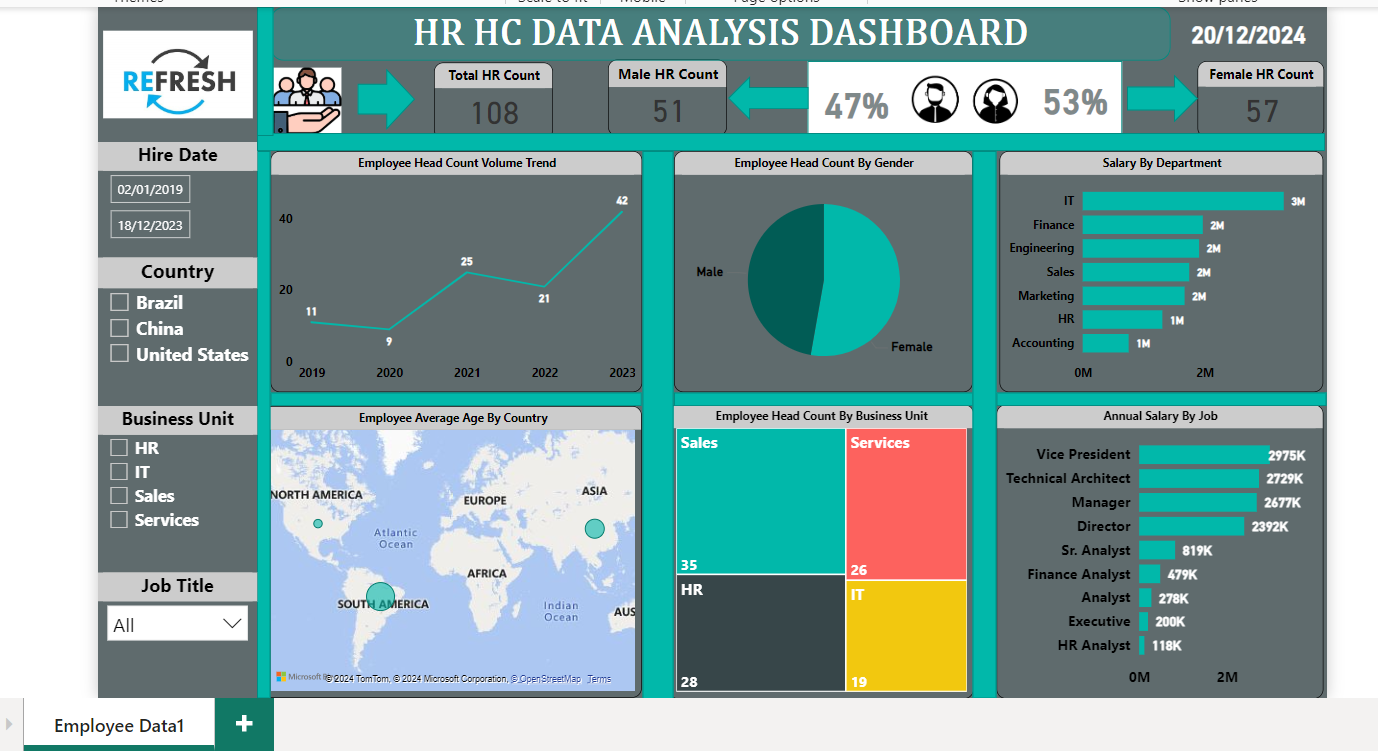

This screenshot's page, from the dashboard's own definition file:
{"tool":"powerbi","page":{"name":"Employee Data1","canvas":[1280,720],"ordinal":0},"visuals":[{"type":"card","title":"Total HR Count","fields":{"Values":["Employee Data.Total_Count"]},"box":[350,58,124,80],"z":0},{"type":"image","box":[166,58,104,82],"z":1000},{"type":"lineChart","title":"Employee Head Count Volume Trend","fields":{"Category":["Employee Data.Hire Date.Variation.Date Hierarchy.Year"],"Y":["CountNonNull(Employee Data.EEID)"]},"box":[179.7,150,387.6,251.6],"z":2000},{"type":"pieChart","title":"Employee Head Count By Gender","fields":{"Category":["Employee Data.Gender"],"Y":["CountNonNull(Employee Data.EEID)"]},"box":[600.2,150,311,251.6],"z":3000},{"type":"clusteredBarChart","title":"Salary By Department","fields":{"Category":["Employee Data.Department"],"Y":["Sum(Employee Data.Annual Salary)"]},"box":[939.4,150,337.6,251.6],"z":4000},{"type":"map","title":"Employee Average Age By Country","fields":{"Category":["Employee Data.Country"],"Size":["Avg(Employee Data.Age)"]},"box":[172.2,415.2,394.9,303.8],"z":5000},{"type":"treemap","title":"Employee Head Count By Business Unit","fields":{"Group":["Employee Data.Business Unit"],"Values":["CountNonNull(Employee Data.EEID)"]},"box":[593.9,414.2,318.8,306.3],"z":6000},{"type":"clusteredBarChart","title":"Annual Salary By Job","fields":{"Category":["Employee Data.Job Title"],"Y":["Sum(Employee Data.Annual Salary)"]},"box":[936.2,414.2,340.7,306.3],"z":7000},{"type":"shape","box":[165.7,150,14.1,570.5],"z":8000},{"type":"shape","box":[740,56,328,80],"z":9000},{"type":"image","box":[800,56,206,80],"z":10000},{"type":"card","title":"Male HR Count","fields":{"Values":["Employee Data.Total_Male_Count"]},"box":[532,54,124,80],"z":11000},{"type":"card","title":"Female HR Count","fields":{"Values":["Employee Data.Total_Female_Count"]},"box":[1146,56,132,80],"z":12000},{"type":"card","fields":{"Values":["Employee Data.Male%"]},"box":[740,64,102,70],"z":13000},{"type":"card","fields":{"Values":["Employee Data.Female%"]},"box":[968,56,100,78],"z":14000},{"type":"shape","box":[180,0,938,56],"z":15000},{"type":"slicer","title":"Business Unit","fields":{"Values":["Employee Data.Business Unit"]},"box":[0,415.2,166.1,158],"z":16000},{"type":"slicer","title":"Country","fields":{"Values":["Employee Data.Country"]},"box":[0,261.3,166.1,125.6],"z":17000},{"type":"slicer","title":"Job Title","fields":{"Values":["Employee Data.Job Title"]},"box":[0,589.2,165.7,95.3],"z":18000},{"type":"slicer","title":"Hire Date","fields":{"Values":["Employee Data.Hire Date"]},"box":[0,140,166,106],"z":19000},{"type":"card","fields":{"Values":["Min(Query1.Date)"]},"box":[1118,0,162,56],"z":20000},{"type":"image","box":[0,0,166,140],"z":21000},{"type":"shape","box":[599.5,401,311.9,14.2],"z":22000},{"type":"shape","box":[911.2,150,25,570.5],"z":23000},{"type":"shape","box":[567.1,149.9,32.4,571.1],"z":24000},{"type":"shape","box":[936.2,401.7,343.9,14.1],"z":25000},{"type":"shape","box":[180.3,401,386.8,14.2],"z":26000},{"type":"shape","box":[165.7,131.3,1112.8,18.8],"z":27000},{"type":"shape","box":[270,64,60,64],"z":28000},{"type":"shape","box":[1072,70,74,50],"z":29000},{"type":"shape","box":[656,72,84,46],"z":30000},{"type":"shape","box":[165.7,0,17.2,134.4],"z":31000}]}

Visuals, with their boxes on the page's 1280x720 design canvas (x1, y1, x2, y2). These are canvas units, not pixel positions in the 1378x751 screenshot, which may show the page scaled, cropped or inside an application window:
"Total HR Count" card: x1=350, y1=58, x2=474, y2=138
image: x1=166, y1=58, x2=270, y2=140
"Employee Head Count Volume Trend" lineChart: x1=180, y1=150, x2=567, y2=402
"Employee Head Count By Gender" pieChart: x1=600, y1=150, x2=911, y2=402
"Salary By Department" clusteredBarChart: x1=939, y1=150, x2=1277, y2=402
"Employee Average Age By Country" map: x1=172, y1=415, x2=567, y2=719
"Employee Head Count By Business Unit" treemap: x1=594, y1=414, x2=913, y2=720
"Annual Salary By Job" clusteredBarChart: x1=936, y1=414, x2=1277, y2=720
shape: x1=166, y1=150, x2=180, y2=720
shape: x1=740, y1=56, x2=1068, y2=136
image: x1=800, y1=56, x2=1006, y2=136
"Male HR Count" card: x1=532, y1=54, x2=656, y2=134
"Female HR Count" card: x1=1146, y1=56, x2=1278, y2=136
card - Employee Data.Male%: x1=740, y1=64, x2=842, y2=134
card - Employee Data.Female%: x1=968, y1=56, x2=1068, y2=134
shape: x1=180, y1=0, x2=1118, y2=56
"Business Unit" slicer: x1=0, y1=415, x2=166, y2=573
"Country" slicer: x1=0, y1=261, x2=166, y2=387
"Job Title" slicer: x1=0, y1=589, x2=166, y2=684
"Hire Date" slicer: x1=0, y1=140, x2=166, y2=246
card - Min(Query1.Date): x1=1118, y1=0, x2=1280, y2=56
image: x1=0, y1=0, x2=166, y2=140
shape: x1=600, y1=401, x2=911, y2=415
shape: x1=911, y1=150, x2=936, y2=720
shape: x1=567, y1=150, x2=600, y2=721
shape: x1=936, y1=402, x2=1280, y2=416
shape: x1=180, y1=401, x2=567, y2=415
shape: x1=166, y1=131, x2=1278, y2=150
shape: x1=270, y1=64, x2=330, y2=128
shape: x1=1072, y1=70, x2=1146, y2=120
shape: x1=656, y1=72, x2=740, y2=118
shape: x1=166, y1=0, x2=183, y2=134
